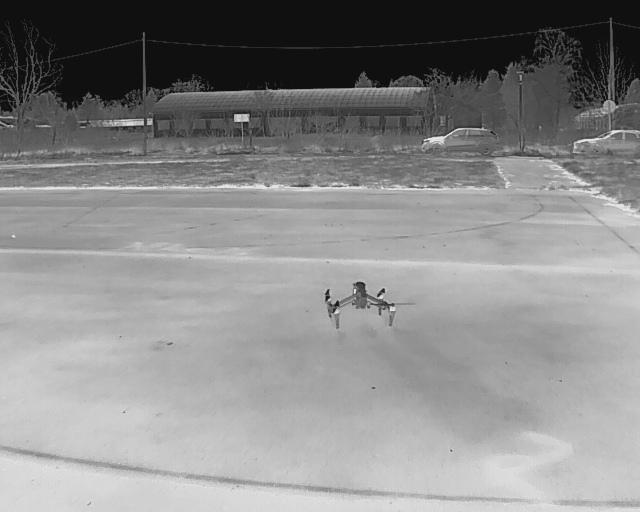drone: (308, 263, 420, 347)
